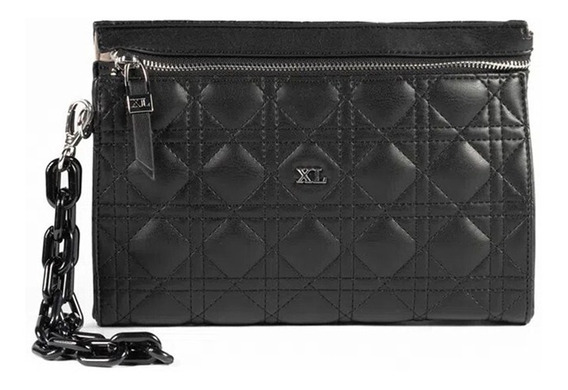cartera: (31, 17, 539, 370)
